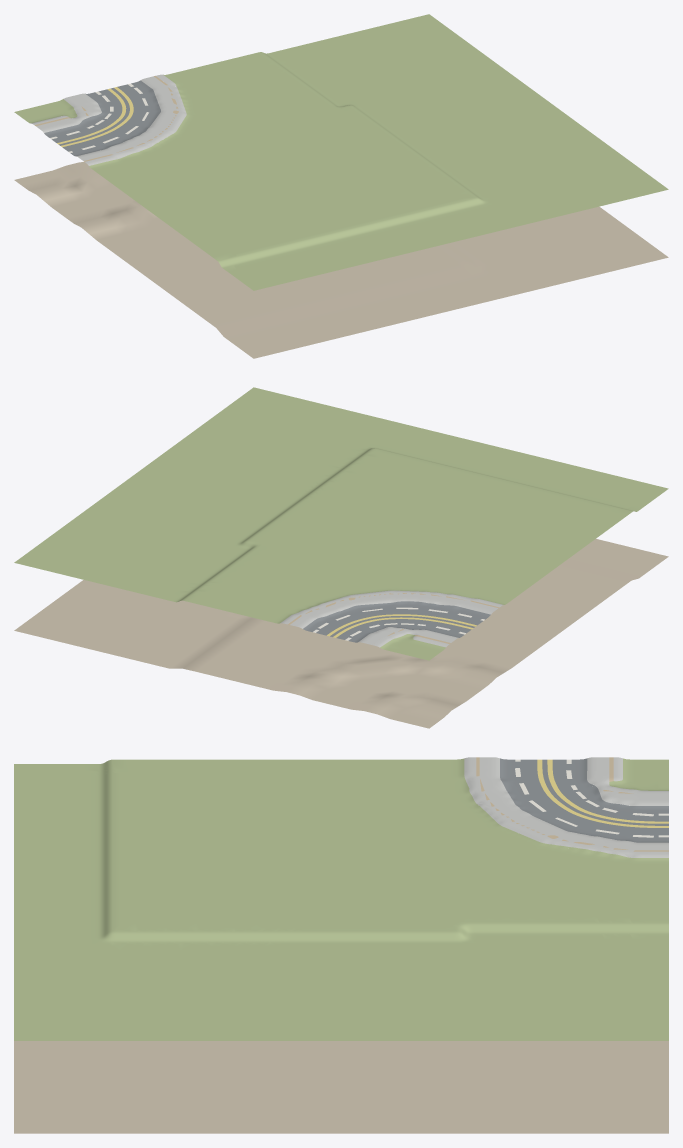
3 renders of one model, top to bottom at view 1: azimuth 30°, elevation 25°; view 2: azimuth 150°, elevation 25°; view 3: azimuth 270°, elevation 25°, orthographic. The views are drawn at different scales.
Parts seen in each view (by area): view 1: s_1_4__grass, s_1_4__soil, s_1_4__asphalt, s_1_4__stone_paving, s_1_4__yellow_marking; view 2: s_1_4__grass, s_1_4__soil, s_1_4__asphalt, s_1_4__stone_paving, s_1_4__yellow_marking; view 3: s_1_4__grass, s_1_4__soil, s_1_4__asphalt, s_1_4__stone_paving, s_1_4__yellow_marking, s_1_4__white_marking, s_1_4__timber_deck.
Part boxes in pixels (<box>): s_1_4__grass: <box>14,14,668,290</box>; s_1_4__soil: <box>14,162,668,358</box>; s_1_4__asphalt: <box>44,80,160,156</box>; s_1_4__stone_paving: <box>31,74,186,165</box>; s_1_4__yellow_marking: <box>57,87,133,147</box>; s_1_4__grass: <box>14,387,668,660</box>; s_1_4__soil: <box>14,539,668,728</box>; s_1_4__asphalt: <box>303,601,490,642</box>; s_1_4__stone_paving: <box>280,590,503,647</box>; s_1_4__yellow_marking: <box>327,614,476,637</box>; s_1_4__grass: <box>14,758,668,1040</box>; s_1_4__soil: <box>14,1041,668,1133</box>; s_1_4__asphalt: <box>500,758,668,842</box>; s_1_4__stone_paving: <box>464,757,668,857</box>; s_1_4__yellow_marking: <box>537,759,668,827</box>; s_1_4__white_marking: <box>515,759,668,837</box>; s_1_4__timber_deck: <box>476,757,668,851</box>.
Bounding box in the file's own units: 128 × 21.51 × 128.
